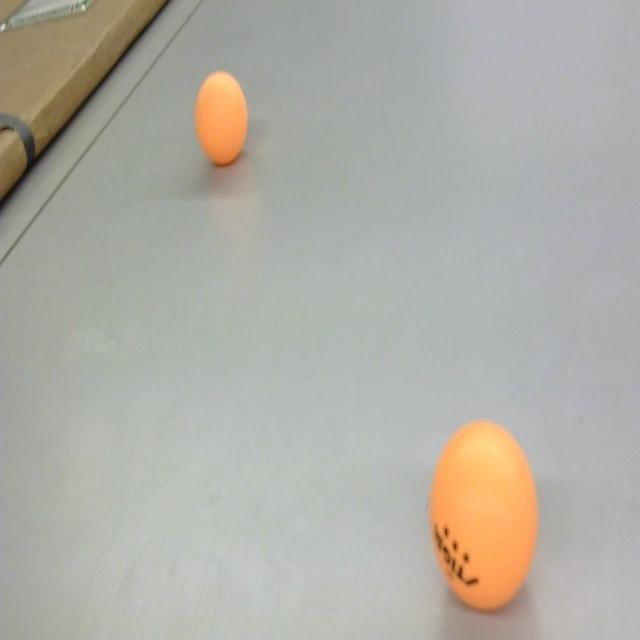ball: (427, 415, 541, 615), (195, 67, 248, 168)
